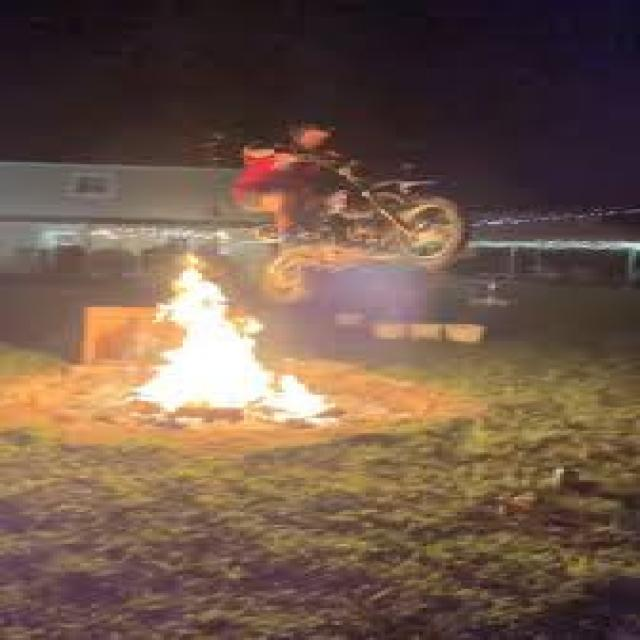fire: (123, 354, 274, 420), (152, 249, 230, 351), (271, 375, 338, 428)
